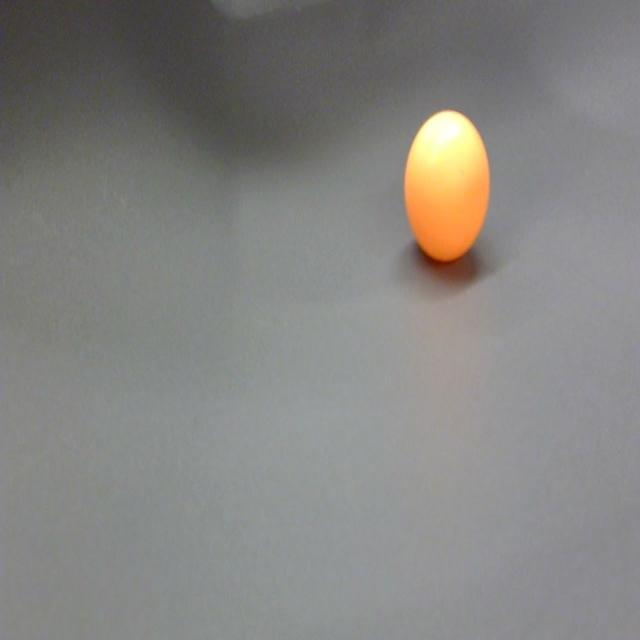ball: (403, 106, 491, 266)
